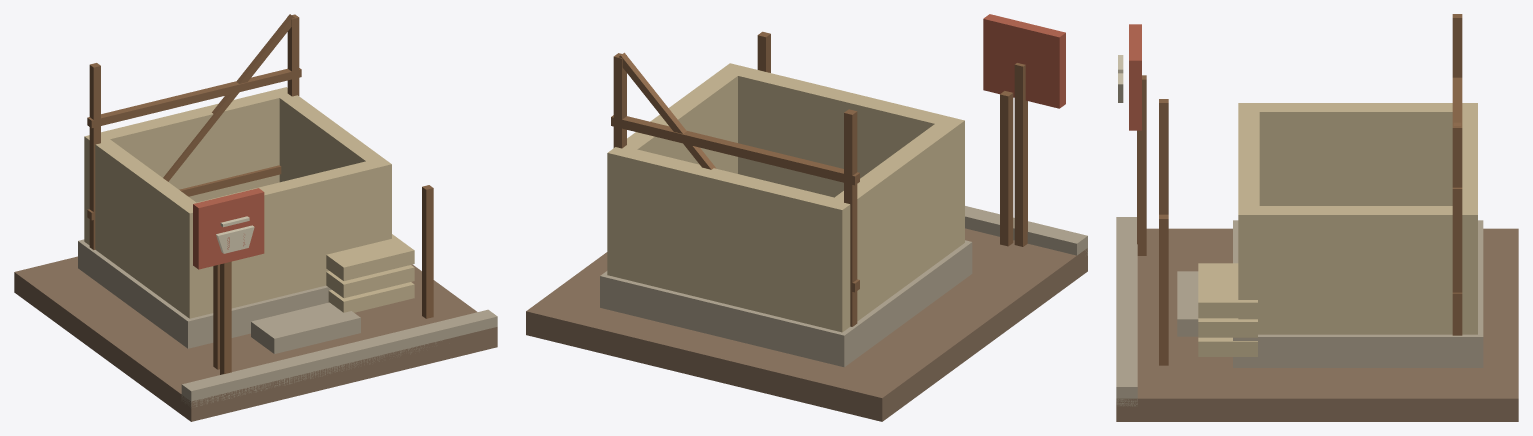
Rendered from grocery-sunrise-half-built.glb.
The picture shows the model from 3 angles, left to right: view 1: azimuth 30°, elevation 25°; view 2: azimuth 150°, elevation 25°; view 3: azimuth 270°, elevation 25°; orthographic projection. The views are drawn at different scales.
Visible parts, largest first — view 1: grocery; view 2: grocery; view 3: grocery.
Part boxes in pixels (x1,y1,x2,y2): grocery: (14,14,497,421); grocery: (526,14,1087,421); grocery: (1116,14,1518,421).
Bounding box in the file's own units: 1.88 × 1.38 × 1.88.
